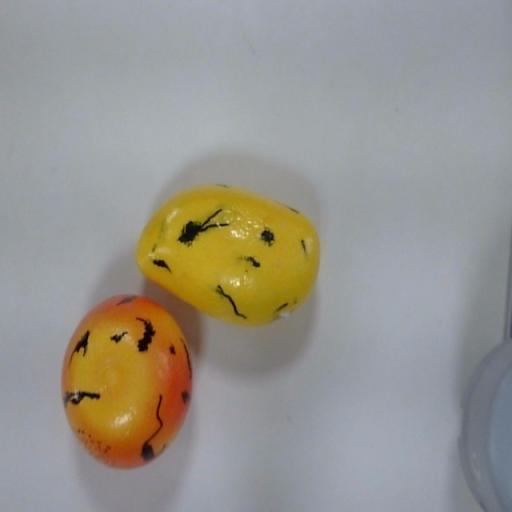Defective: (134, 160, 372, 327), (16, 281, 199, 469)
